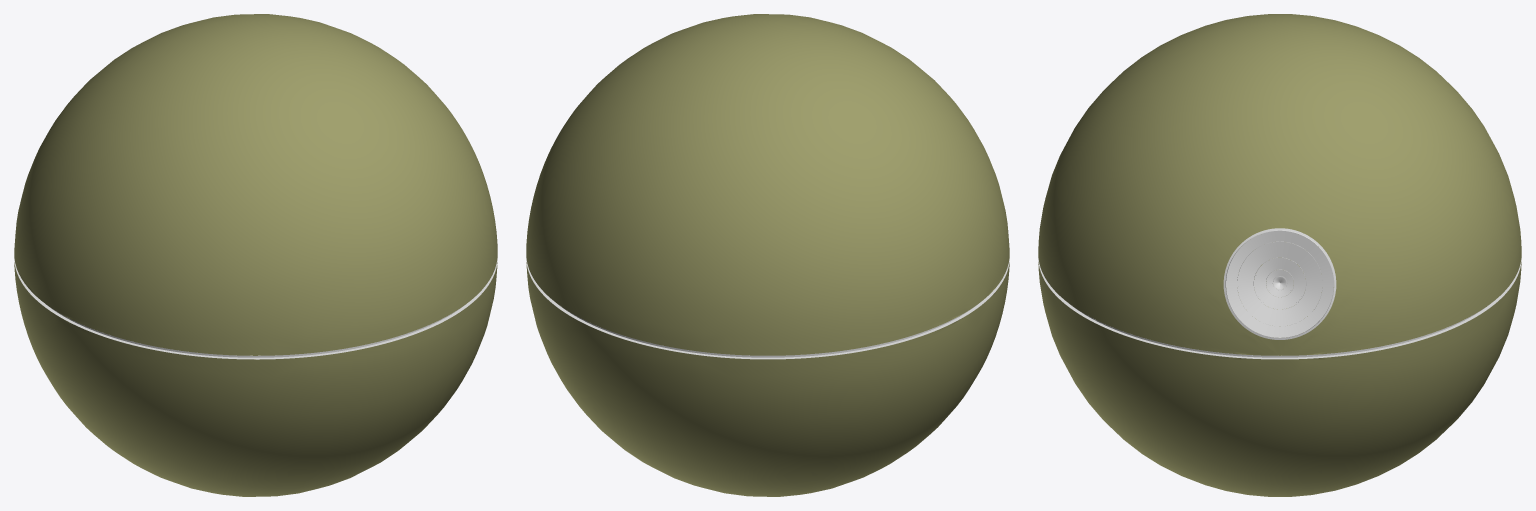
The picture shows the model from 3 angles, left to right: view 1: azimuth 30°, elevation 25°; view 2: azimuth 150°, elevation 25°; view 3: azimuth 270°, elevation 25°; orthographic projection.
Parts seen in each view (by area): view 1: Obj015_001, Obj014_001, Obj012_001, Obj011_001; view 2: Obj015_001, Obj014_001, Obj012_001, Obj011_001; view 3: Obj015_001, Obj014_001, Obj009_001, Obj007_001, Obj012_001, Obj005_001, Obj010_001, Obj011_001.
Boxes of the visible parts, box(x1,y1,x2,y2) form: Obj015_001: box(14, 14, 497, 355); Obj014_001: box(14, 262, 497, 496); Obj012_001: box(14, 259, 497, 359); Obj011_001: box(46, 304, 465, 357); Obj015_001: box(526, 14, 1009, 355); Obj014_001: box(526, 262, 1009, 496); Obj012_001: box(526, 258, 1009, 359); Obj011_001: box(559, 305, 976, 357); Obj015_001: box(1038, 14, 1521, 355); Obj014_001: box(1038, 228, 1521, 496); Obj009_001: box(1226, 230, 1333, 337); Obj007_001: box(1238, 242, 1321, 325); Obj012_001: box(1038, 258, 1521, 359); Obj005_001: box(1254, 258, 1305, 308); Obj010_001: box(1223, 228, 1336, 339); Obj011_001: box(1071, 305, 1488, 357).
Size of the model in its own units: 299999 by 299328 by 299999.
